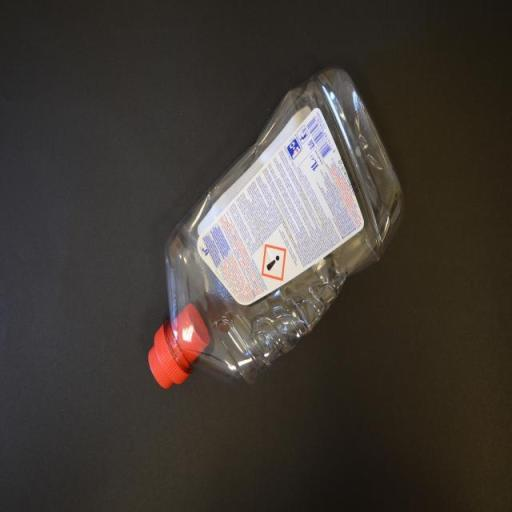plastic: (147, 67, 404, 391)
